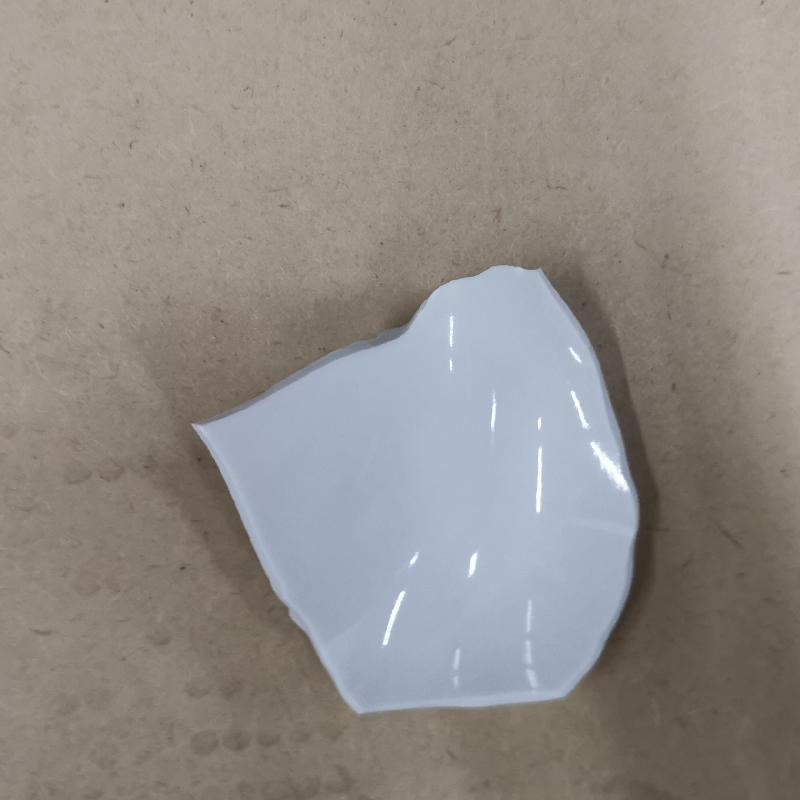ceram: (190, 260, 649, 718)
